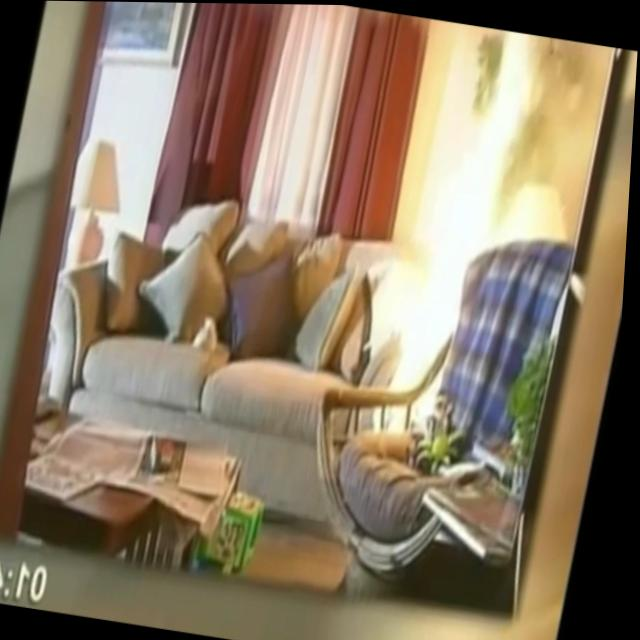fire: (374, 45, 538, 442)
